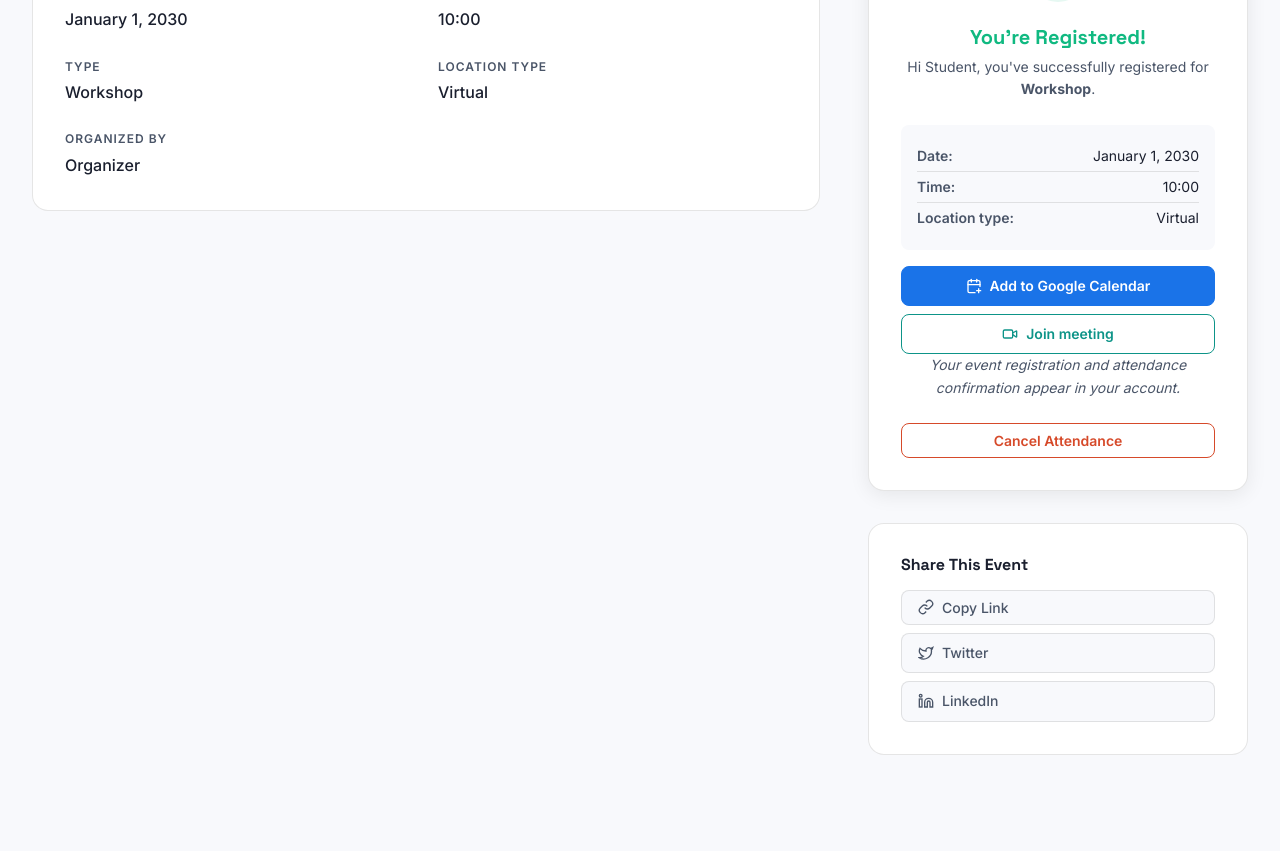
Test: removes meeting access after approved attendance is cancelled
(page scrolled)
expect the link "Join meeting" is shown: met, box [901,314,1215,354]
Click the button "Cancel Attendance".
click(1058, 441)  # box [901,423,1215,458]
(page scrolled)
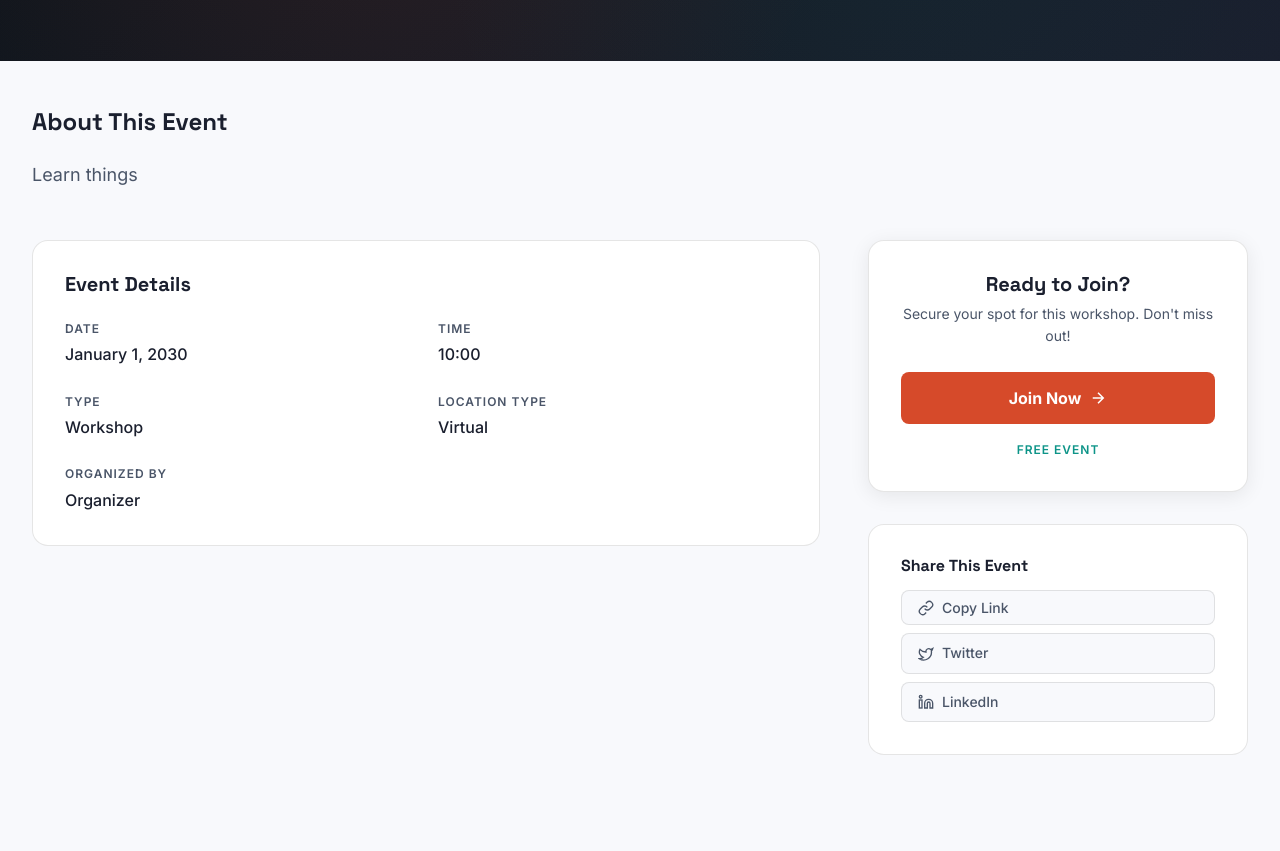
expect the link "Join meeting" is gone: met
